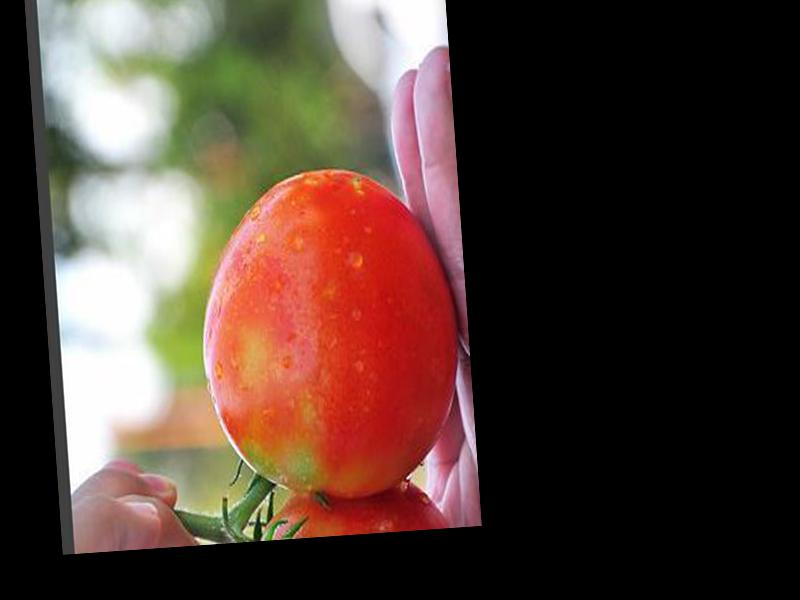Tomato: (191, 162, 465, 504)
